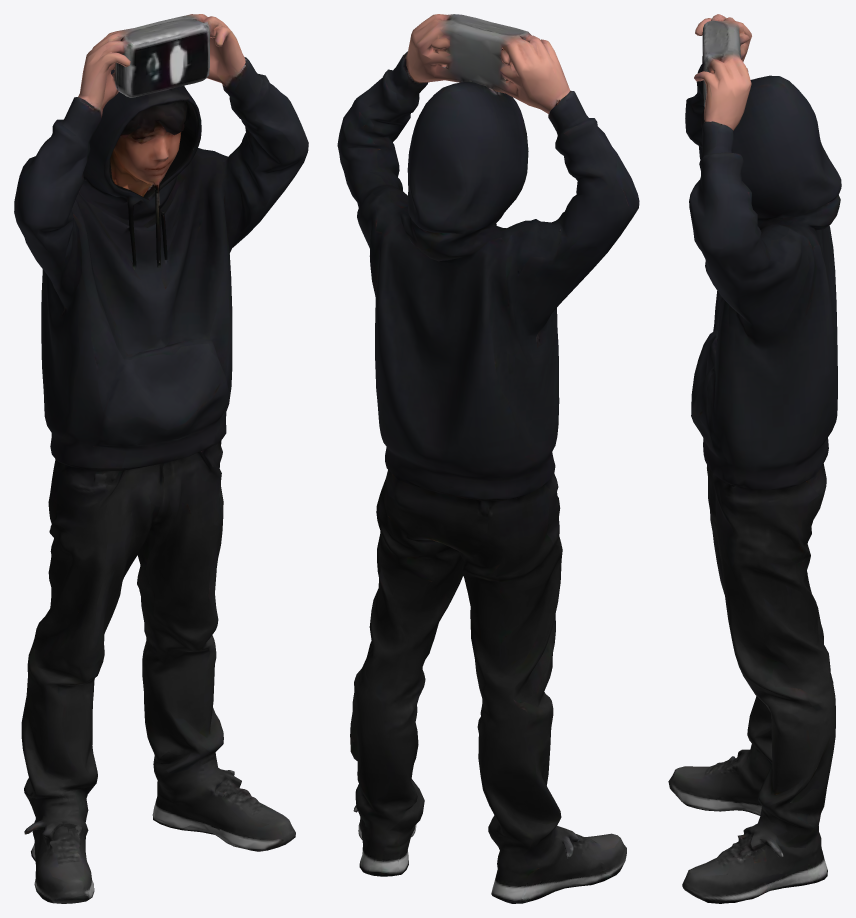
The model's file is fan-phone-s2.glb.
3 renders of one model, left to right at view 1: azimuth 30°, elevation 25°; view 2: azimuth 150°, elevation 25°; view 3: azimuth 270°, elevation 25°, orthographic. The views are drawn at different scales.
Visible parts, largest first — view 1: geometry_0; view 2: geometry_0; view 3: geometry_0.
Boxes of the visible parts, <box> form: geometry_0: <box>14,14,308,903</box>; geometry_0: <box>337,14,639,903</box>; geometry_0: <box>668,14,841,903</box>.
Bounding box in the file's own units: 0.3634 × 1 × 0.1943.
1 material, 1 textured.
